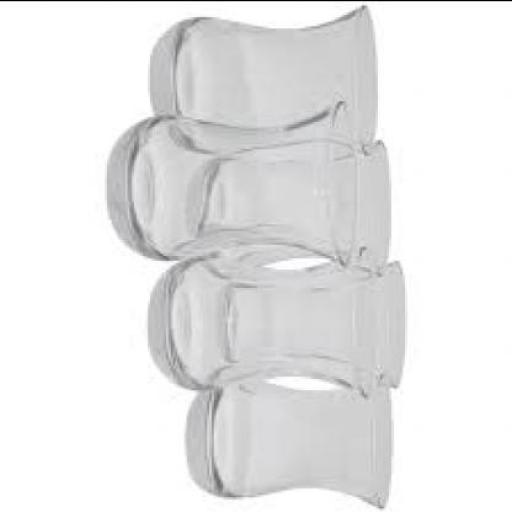glass: (109, 96, 360, 268), (152, 3, 378, 150), (150, 244, 376, 389), (189, 374, 393, 505), (196, 137, 391, 268), (266, 257, 410, 383)
